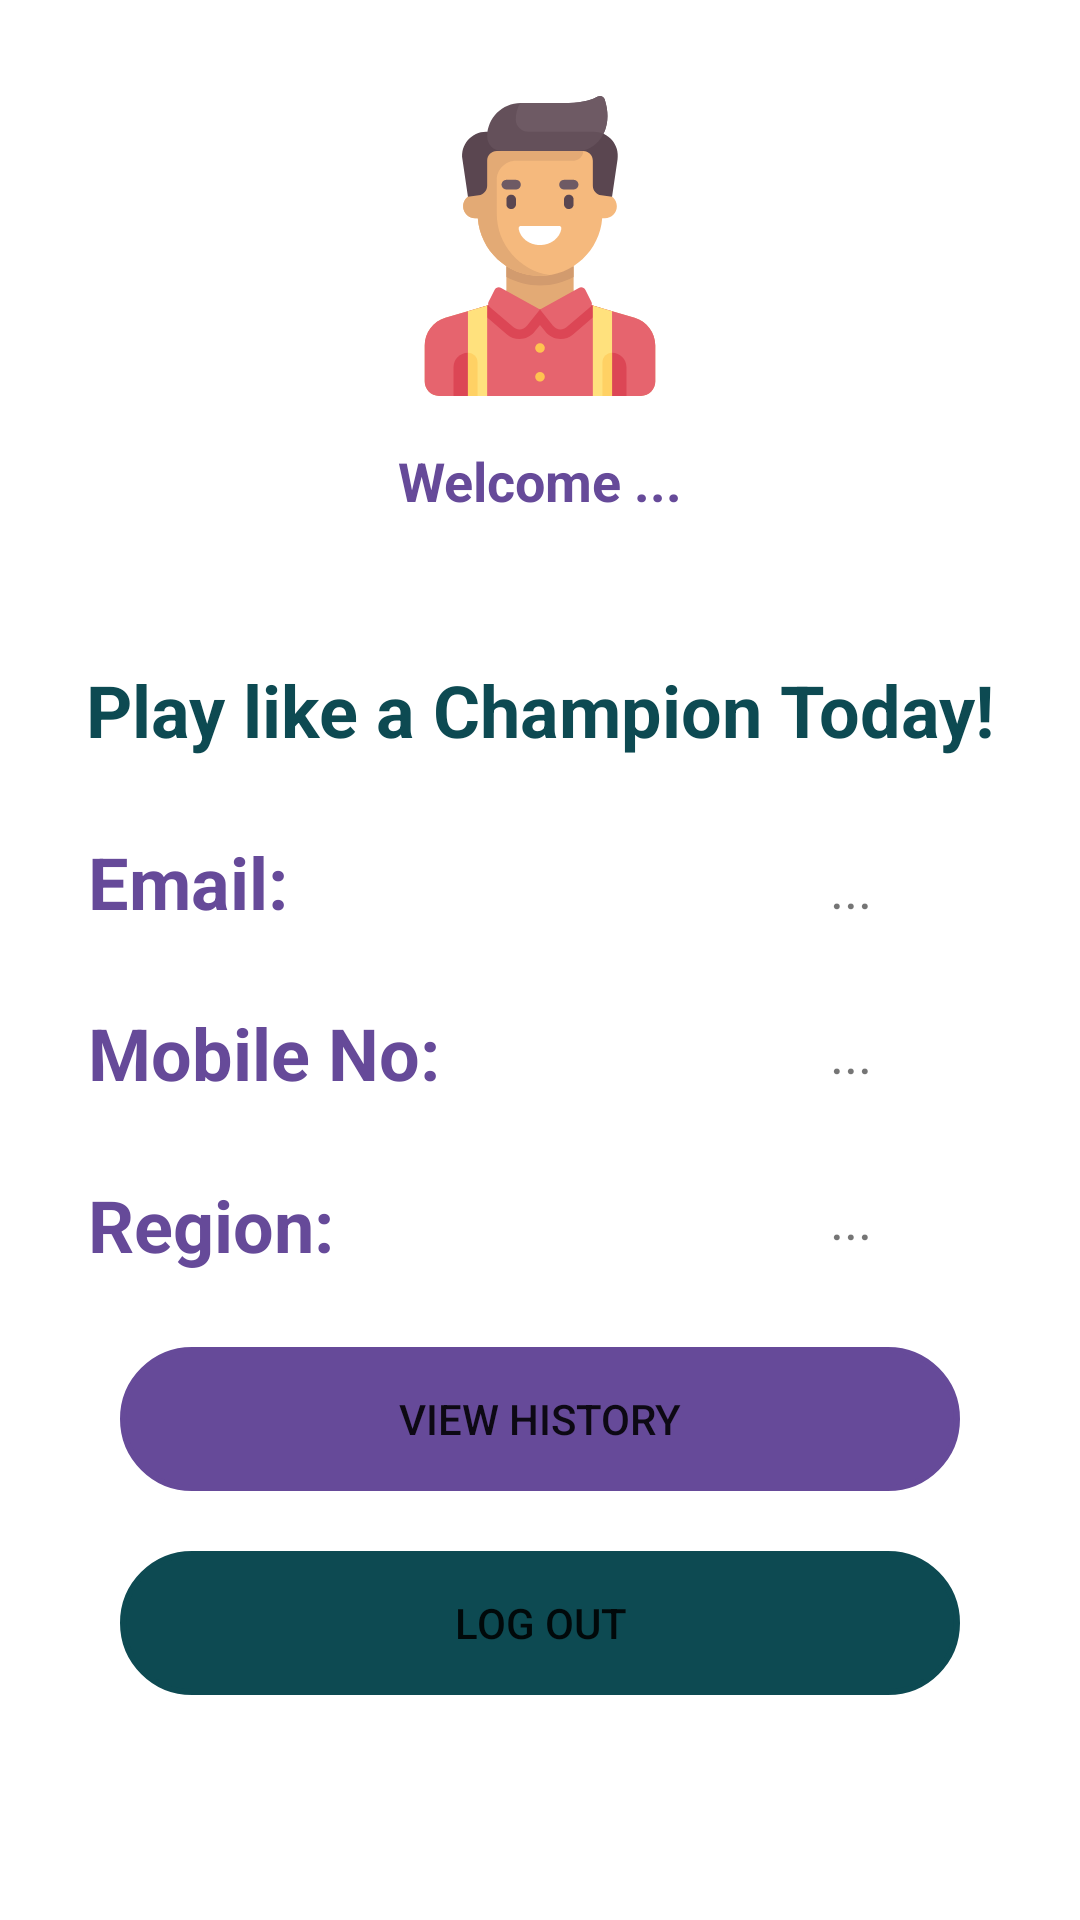

Named icons in this screenshot (1080×1920) and their bounding boxes, (x1, y1, x2, y2):
man: (424, 96, 656, 396)
